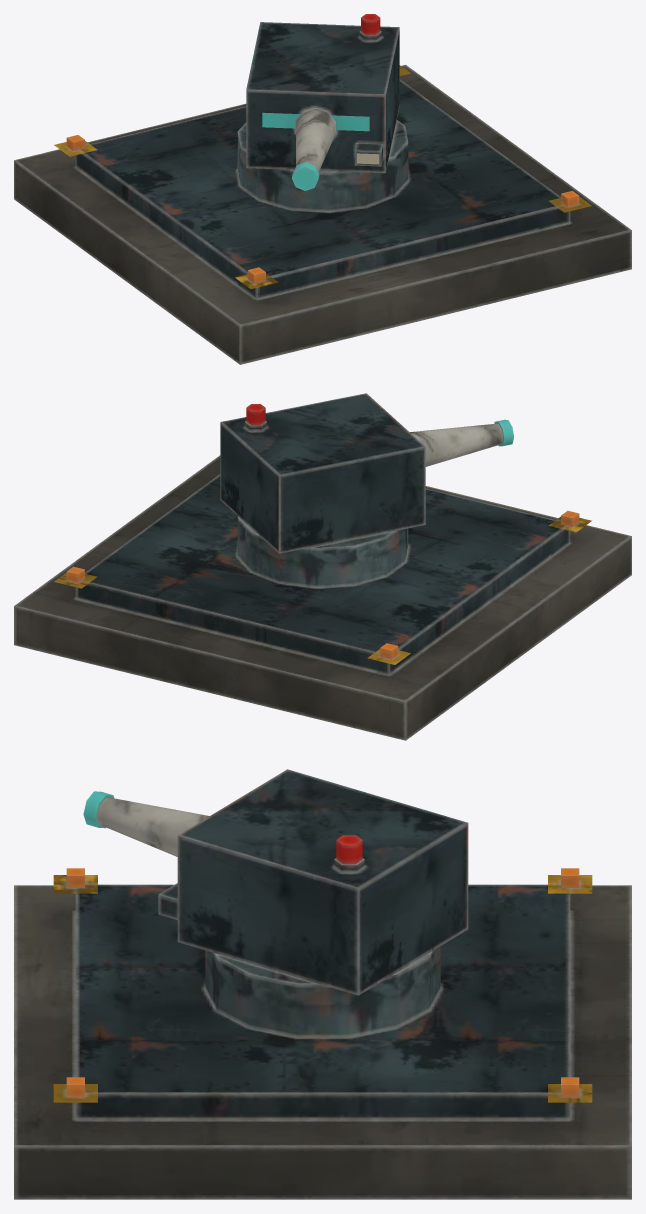
The model's file is beam_laser.glb.
3 views of the same model, one above another, from view 1: azimuth 30°, elevation 25°; view 2: azimuth 150°, elevation 25°; view 3: azimuth 270°, elevation 25° (orthographic). The views are drawn at different scales.
Visible parts, largest first — view 1: te_beam_laser; view 2: te_beam_laser; view 3: te_beam_laser.
Boxes of the visible parts, bbox=[...] form: te_beam_laser: bbox=[14, 14, 631, 364]; te_beam_laser: bbox=[14, 393, 631, 740]; te_beam_laser: bbox=[14, 769, 631, 1199].
Size of the model in its own units: 0.84 by 0.4008 by 0.84.
Materials: 1 (1 with a texture image).
